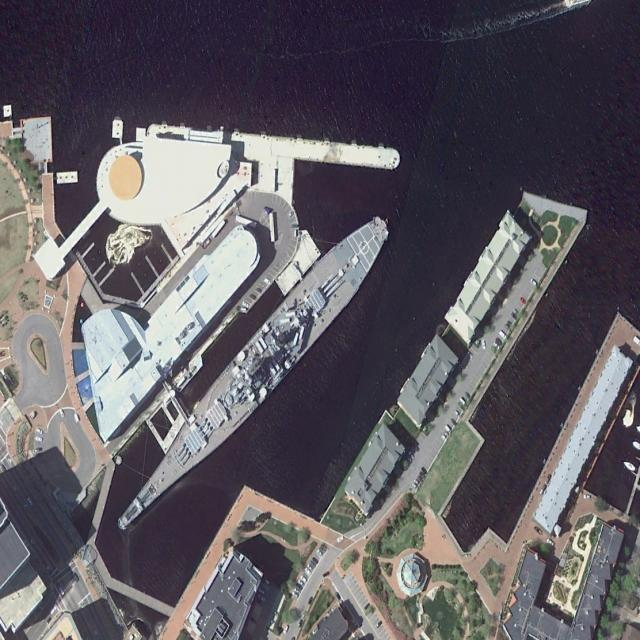Other Warship: (102, 199, 400, 550)
